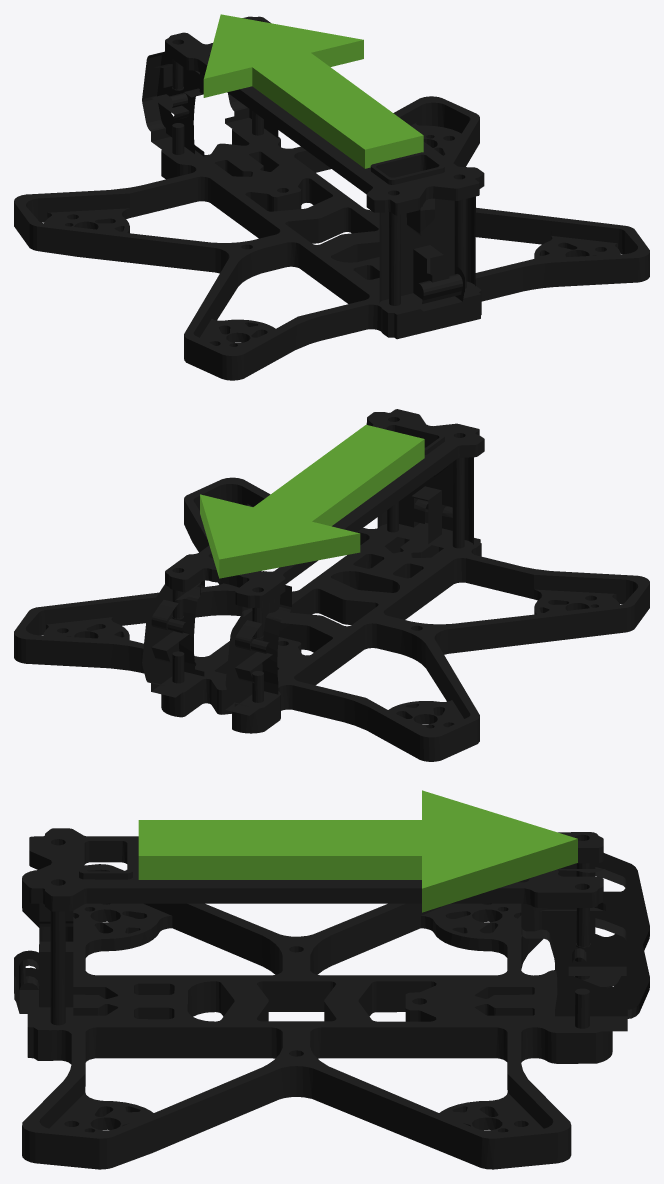
3 renders of one model, top to bottom at view 1: azimuth 30°, elevation 25°; view 2: azimuth 150°, elevation 25°; view 3: azimuth 270°, elevation 25°, orthographic. The views are drawn at different scales.
Parts seen in each view (by area): view 1: TKS-GT2-Base-Plate-Full; view 2: TKS-GT2-Base-Plate-Full; view 3: TKS-GT2-Base-Plate-Full.
Part boxes in pixels (bbox=[...]): TKS-GT2-Base-Plate-Full: bbox=[14, 14, 649, 380]; TKS-GT2-Base-Plate-Full: bbox=[14, 409, 649, 761]; TKS-GT2-Base-Plate-Full: bbox=[14, 790, 649, 1169].
Size of the model in its own units: 95.5 by 31.43 by 93.44.
